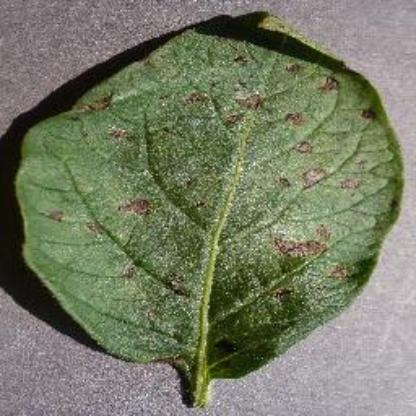Early-Blight: (4, 5, 416, 411)
